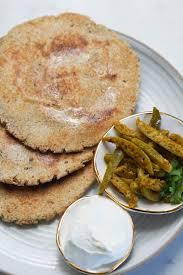bhakri: (2, 12, 142, 150), (0, 142, 96, 224), (0, 108, 100, 186)
